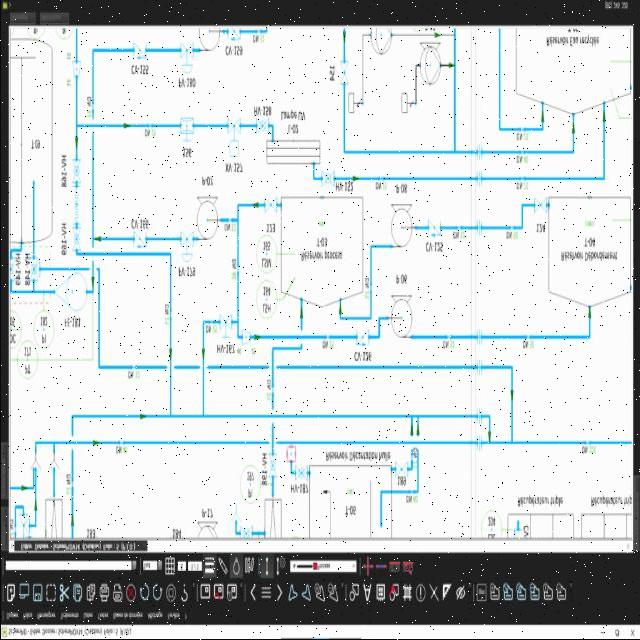3 Way Ball Valve: (28, 255, 43, 285)
Angle GlobeValve: (18, 512, 30, 536)
Ball Valve: (318, 170, 336, 196), (254, 117, 272, 141), (292, 464, 308, 486), (70, 228, 82, 256), (238, 520, 254, 540), (71, 158, 81, 188), (268, 452, 277, 482), (7, 259, 14, 281)
Centrifugal Pump: (386, 290, 416, 346), (386, 200, 414, 258)
Check Valve: (127, 39, 147, 64), (422, 216, 441, 242), (352, 328, 372, 352), (129, 232, 149, 252), (224, 24, 240, 46)
Gate Valve: (530, 194, 550, 220), (261, 194, 277, 220), (337, 60, 349, 90), (392, 462, 410, 478)
Hand Operated Gate Valve: (178, 116, 194, 146), (218, 310, 232, 342)
Pneumatic-Diaphragm Gate Valve: (175, 40, 195, 76), (178, 229, 192, 267)
Powered Gate Valve: (226, 116, 242, 166)
